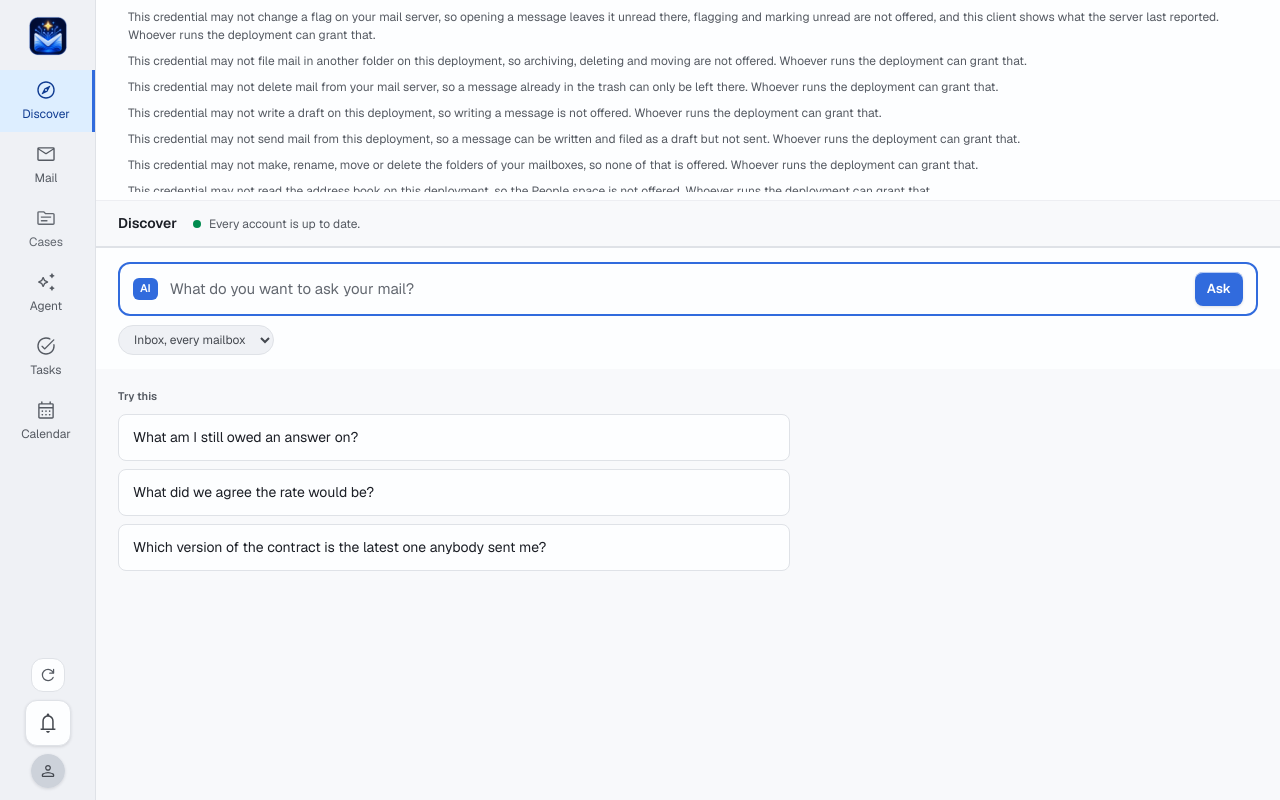
Scenario: App › draws the sender own markup in a window over the message where the person does not work in tabs
The width and height of the screenshot is (1280, 800).
Expected: the heading "Every account is up to date." is shown, left=193, top=214, right=360, bottom=232
Click the link "Mail" at (46, 164), box left=34, top=143, right=57, bottom=186
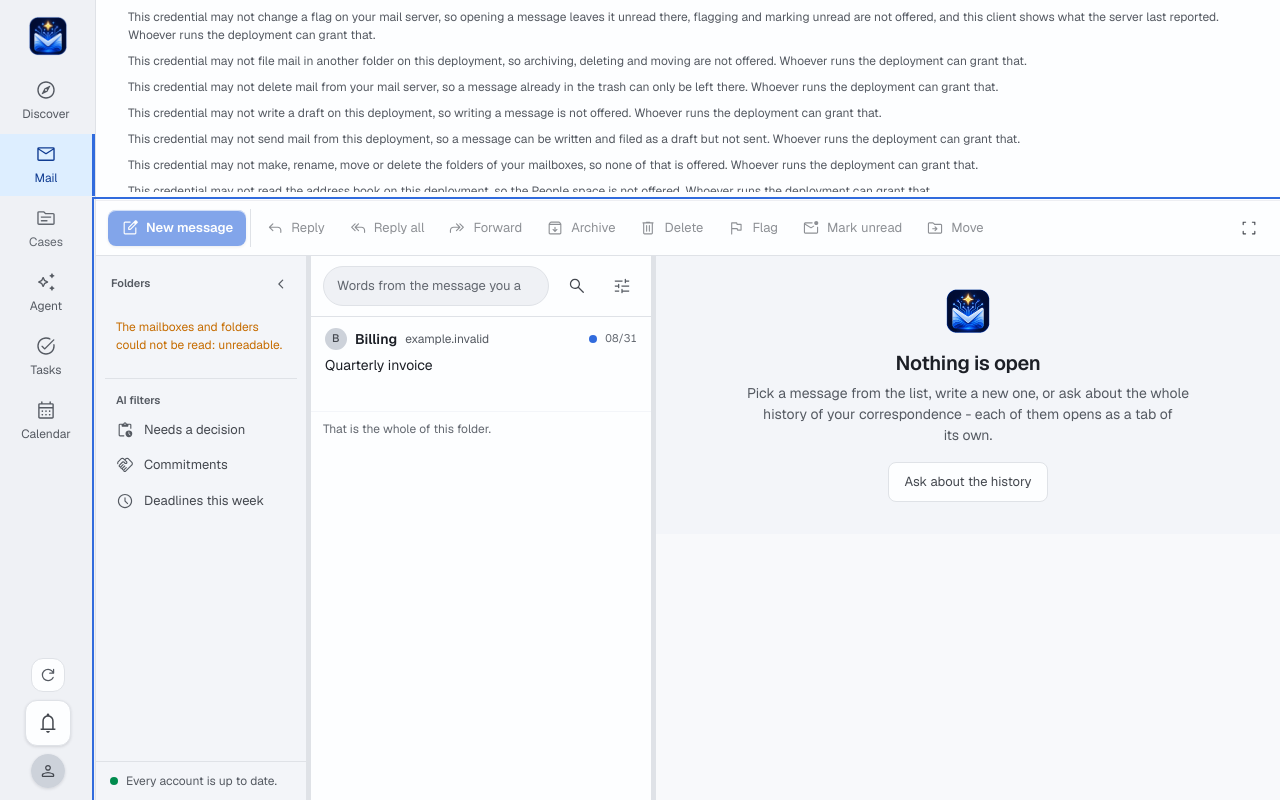
Now the element named "Mail" is shown
Press the mouse on the option "B Billing example.invalid 08/31 Quarterly invoice" at (481, 364), box left=311, top=316, right=651, bottom=412
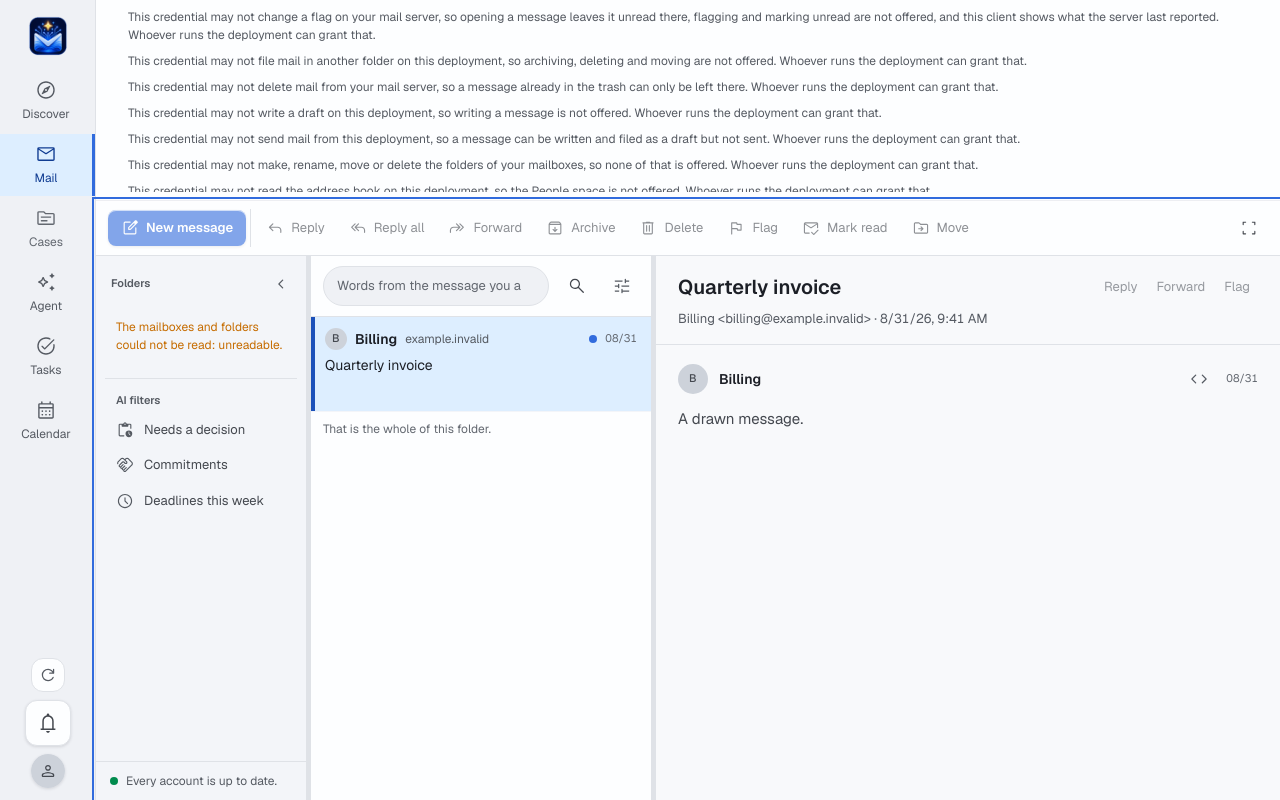
Click the button named "Show the original message" at (1199, 379), box left=1183, top=363, right=1215, bottom=395
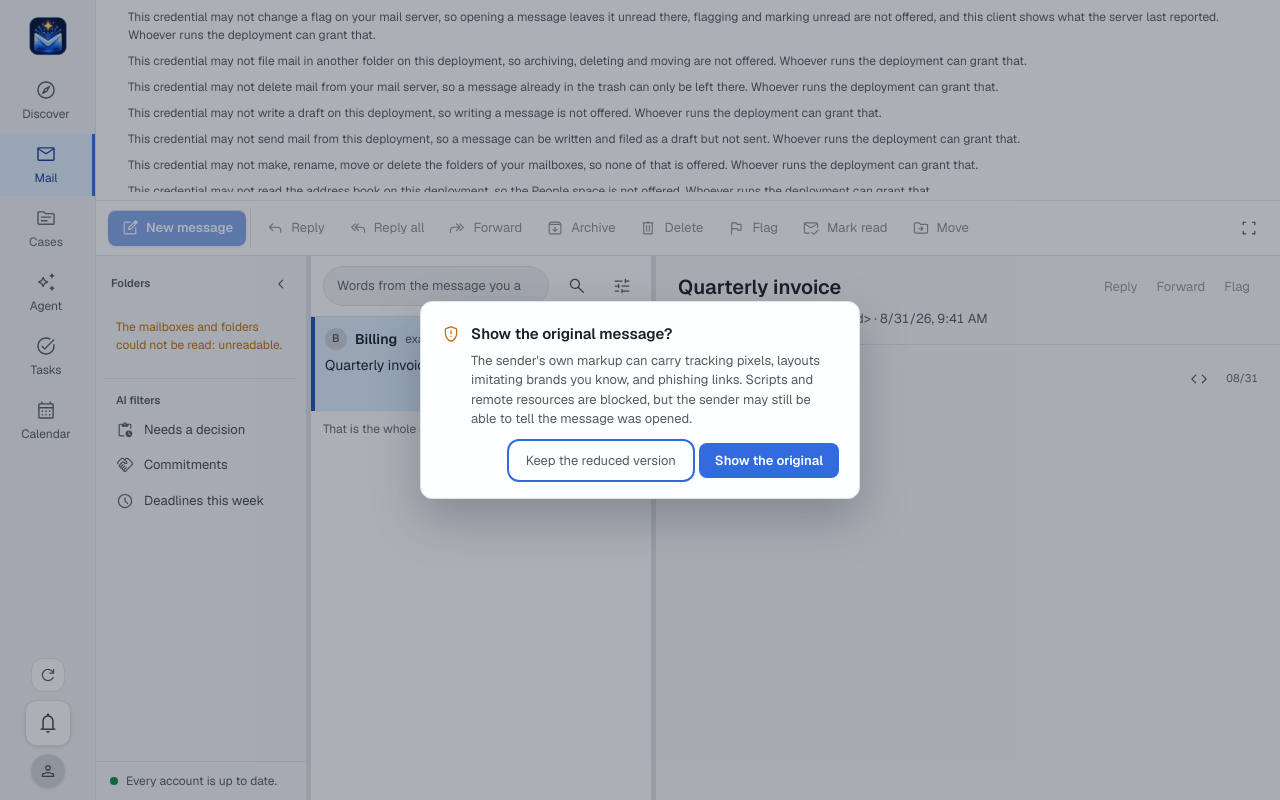
Click the button "Show the original" at (769, 461), box left=699, top=443, right=839, bottom=478
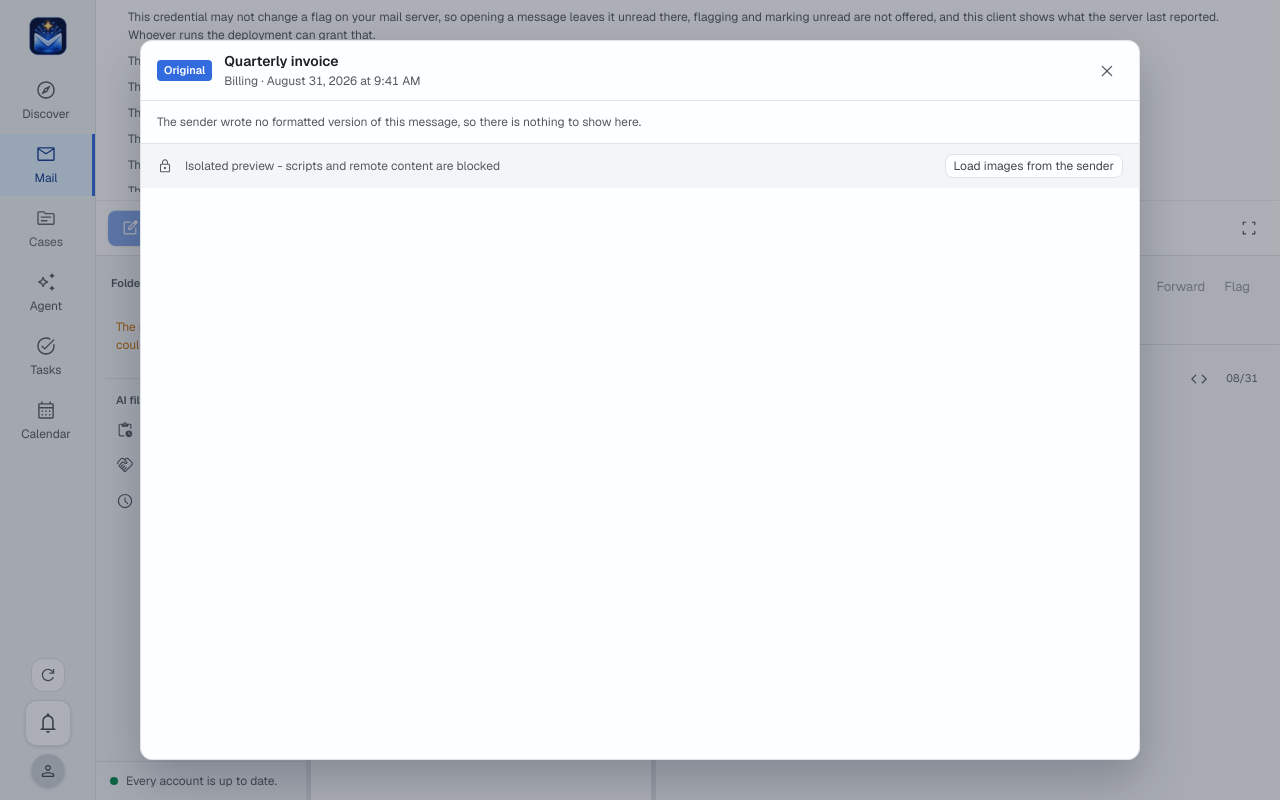
Click the button named "Close the original message" at (1107, 70), box left=1091, top=54, right=1123, bottom=86
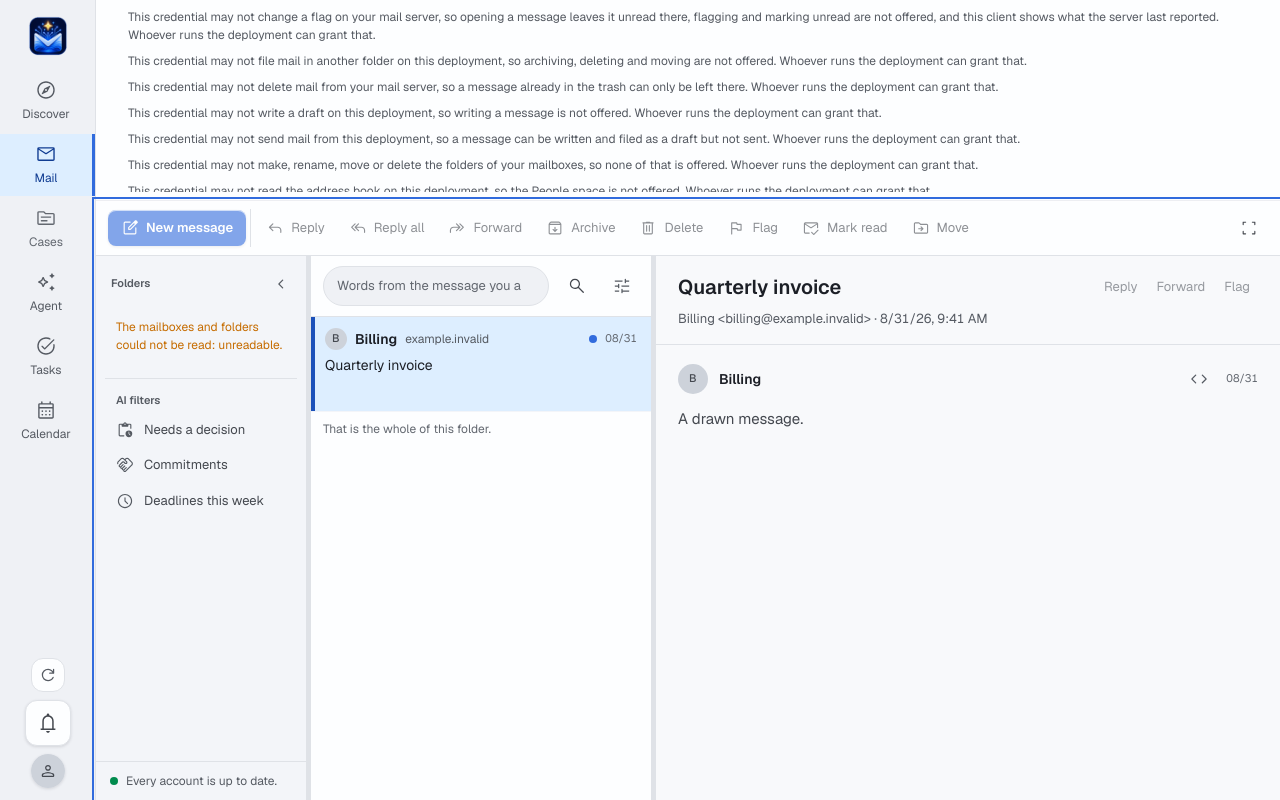
Now the text "A drawn message." is shown, box left=678, top=409, right=803, bottom=428
Now the dialog is gone
